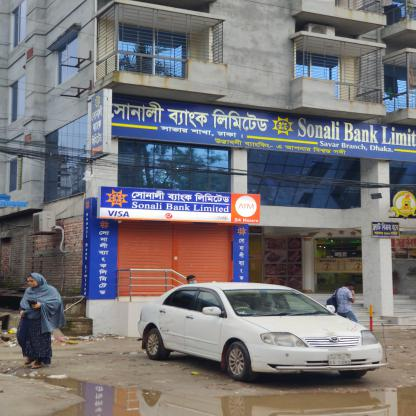license_plate: (325, 353, 355, 366)
